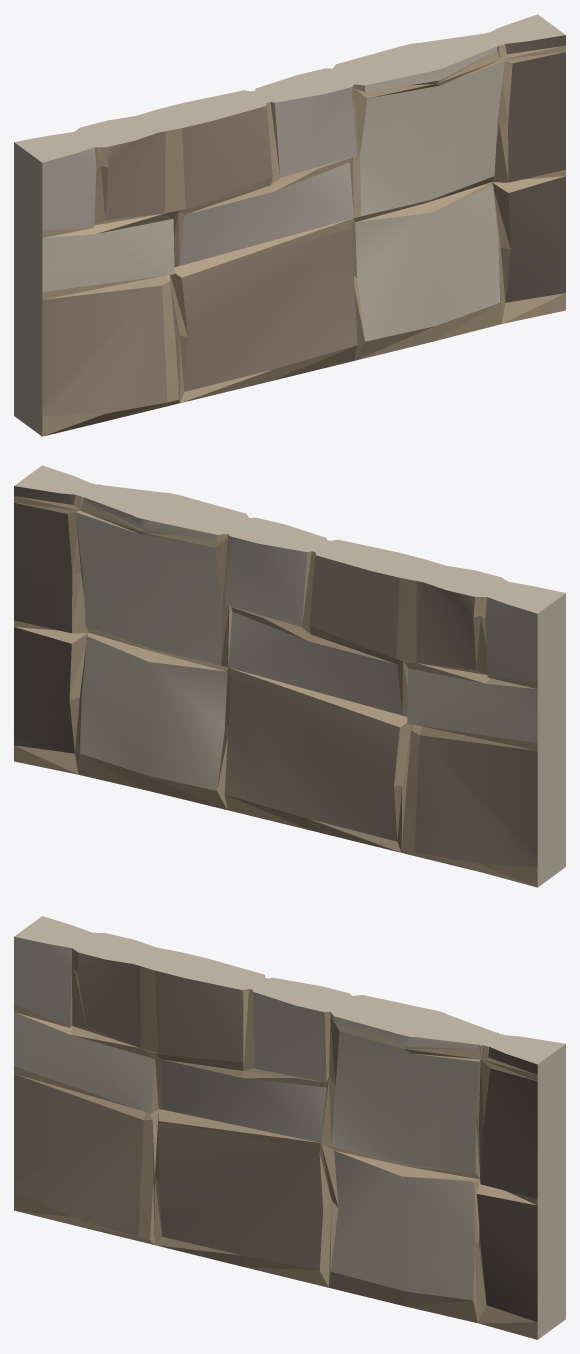
Rendered from RG-Dungeon_small_Wall-05.fbx.
3 renders of one model, top to bottom at view 1: azimuth 30°, elevation 25°; view 2: azimuth 150°, elevation 25°; view 3: azimuth 330°, elevation 25°, orthographic.
Visible parts, largest first — view 1: RG-Dungeon_small_Wall-05; view 2: RG-Dungeon_small_Wall-05; view 3: RG-Dungeon_small_Wall-05.
Boxes of the visible parts, x1,y1,x2,y2 form: RG-Dungeon_small_Wall-05: (14, 14, 565, 436); RG-Dungeon_small_Wall-05: (14, 465, 565, 887); RG-Dungeon_small_Wall-05: (14, 916, 565, 1339).
Size of the model in its own units: 20 by 10.05 by 2.35.
